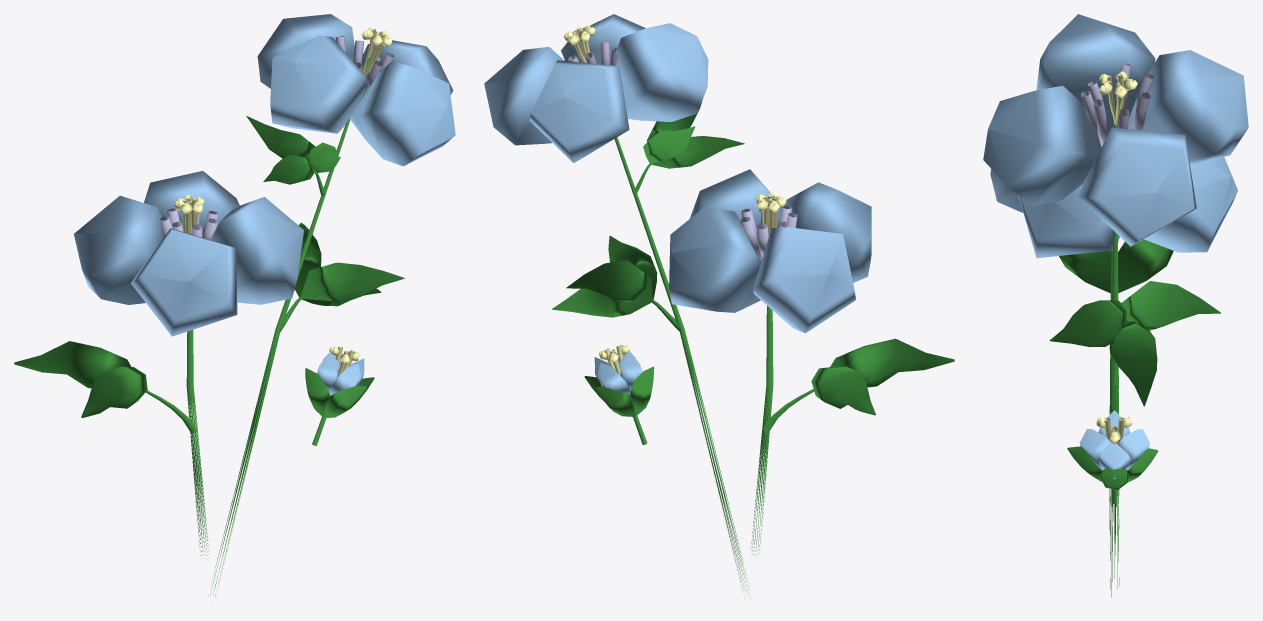
3 renders of one model, left to right at view 1: azimuth 30°, elevation 25°; view 2: azimuth 150°, elevation 25°; view 3: azimuth 270°, elevation 25°, orthographic. The views are drawn at different scales.
Visible parts, largest first — view 1: 8fbc9d61; view 2: 8fbc9d61; view 3: 8fbc9d61.
Boxes of the visible parts, <box> form: 8fbc9d61: <box>14,14,455,595</box>; 8fbc9d61: <box>484,14,954,593</box>; 8fbc9d61: <box>983,14,1248,597</box>.
Bounding box in the file's own units: 0.14 × 0.1774 × 0.0668.
